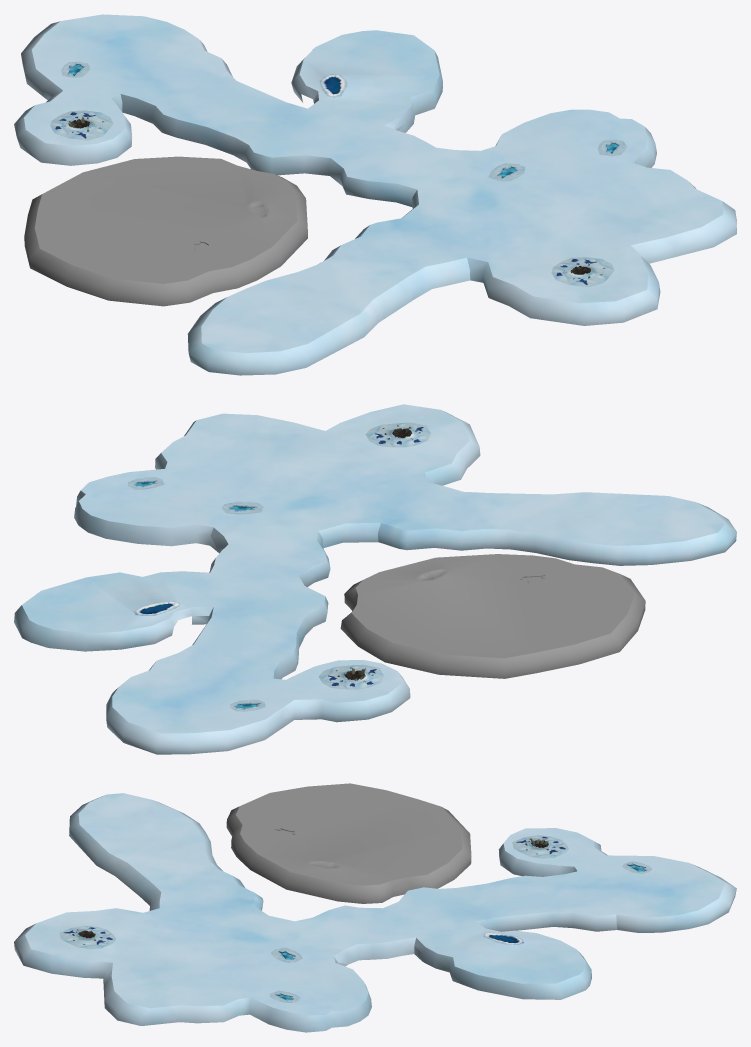
Rendered from dimain_cut.FBX.
3 renders of one model, top to bottom at view 1: azimuth 30°, elevation 25°; view 2: azimuth 150°, elevation 25°; view 3: azimuth 270°, elevation 25°, orthographic. The views are drawn at different scales.
Visible parts, largest first — view 1: Dimian_Cut05, Dimian_Cut03, Dimian_Cut01, Dimian_Cut06, Dimian_Cut02; view 2: Dimian_Cut05, Dimian_Cut01, Dimian_Cut03, Dimian_Cut06, Dimian_Cut02; view 3: Dimian_Cut05, Dimian_Cut03, Dimian_Cut01, Dimian_Cut06, Dimian_Cut02.
Part boxes in pixels (x1,y1,x2,y2): Dimian_Cut05: [402, 109, 736, 325]; Dimian_Cut03: [120, 30, 479, 206]; Dimian_Cut01: [24, 156, 307, 306]; Dimian_Cut06: [187, 218, 470, 375]; Dimian_Cut02: [14, 14, 207, 165]; Dimian_Cut05: [74, 404, 480, 552]; Dimian_Cut01: [340, 554, 645, 678]; Dimian_Cut03: [14, 527, 330, 679]; Dimian_Cut06: [378, 482, 736, 565]; Dimian_Cut02: [106, 660, 410, 754]; Dimian_Cut05: [14, 905, 371, 1032]; Dimian_Cut03: [295, 871, 617, 999]; Dimian_Cut01: [226, 783, 471, 903]; Dimian_Cut06: [69, 793, 263, 910]; Dimian_Cut02: [498, 828, 736, 932].
Bounding box in the file's own units: 149028 × 5901 × 190598.
